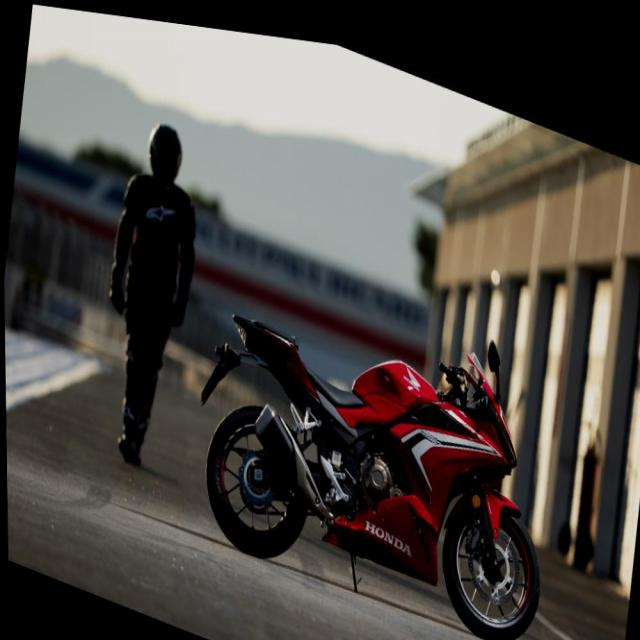CBR500R: (186, 240, 566, 639)
